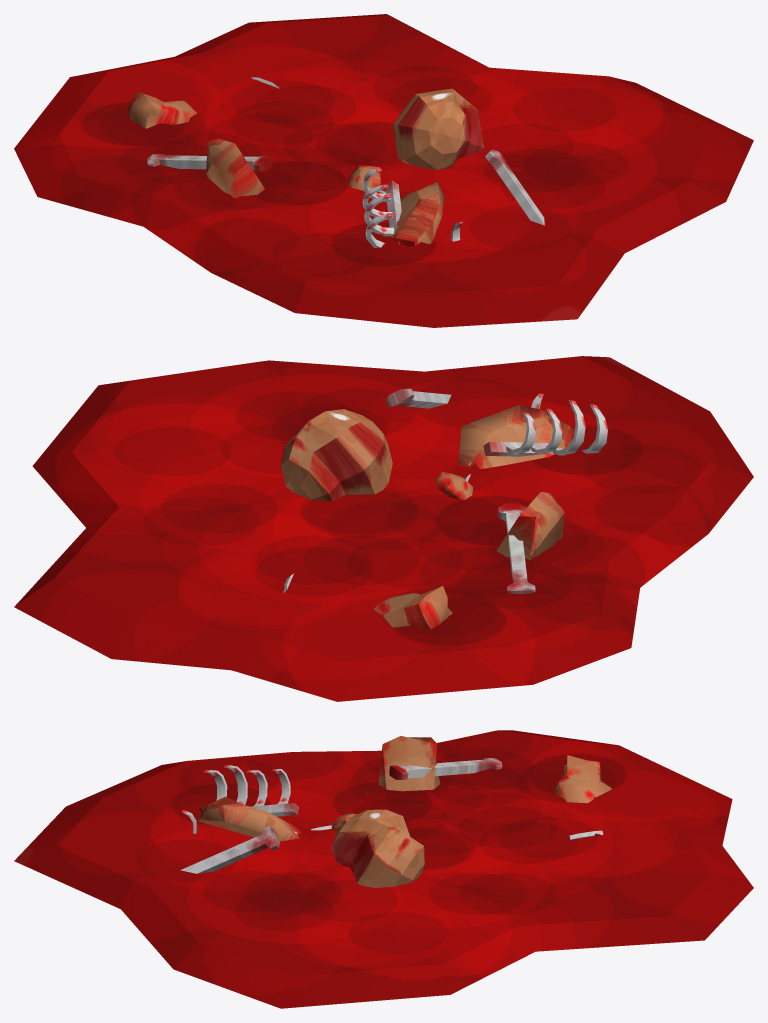
The model's file is GorePile_3.fbx.
3 renders of one model, top to bottom at view 1: azimuth 30°, elevation 25°; view 2: azimuth 150°, elevation 25°; view 3: azimuth 270°, elevation 25°, orthographic. The views are drawn at different scales.
Visible parts, largest first — view 1: polySurface1; view 2: polySurface1; view 3: polySurface1.
Part boxes in pixels (left/top/right/bottom): polySurface1: left=14, top=14, right=753, bottom=327; polySurface1: left=14, top=356, right=753, bottom=701; polySurface1: left=14, top=730, right=753, bottom=1008.
Bounding box in the file's own units: 3.31 × 0.5877 × 3.72.
